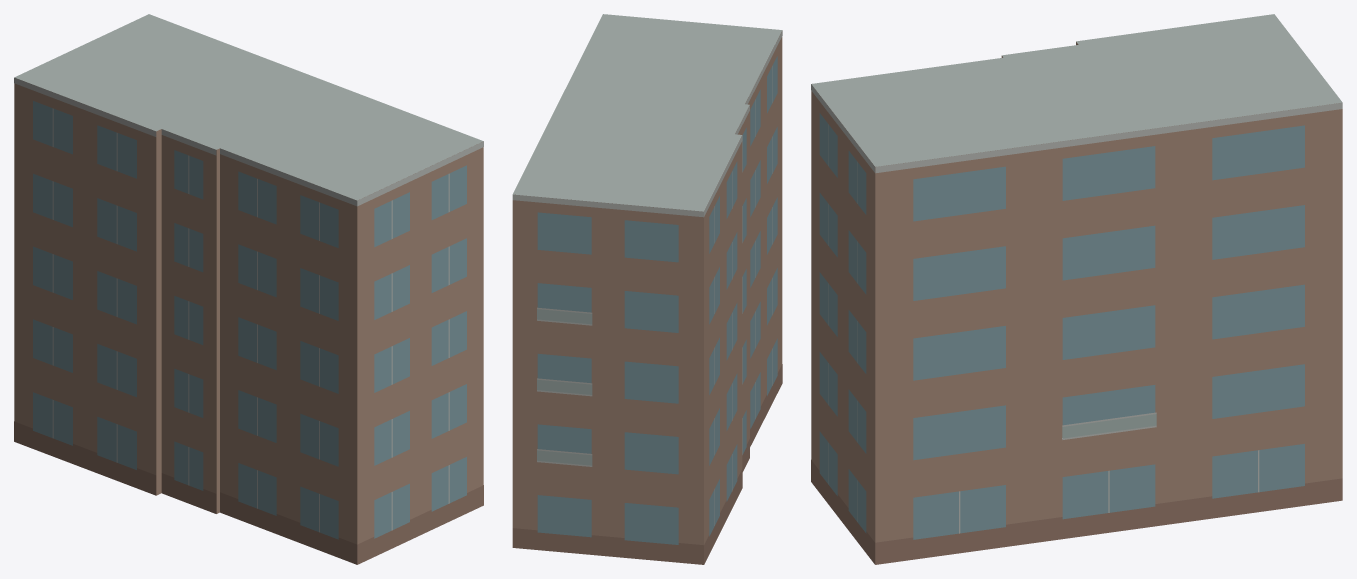
The model's file is survey-upis-32753729.glb.
3 renders of one model, left to right at view 1: azimuth 30°, elevation 25°; view 2: azimuth 150°, elevation 25°; view 3: azimuth 270°, elevation 25°, orthographic. The views are drawn at different scales.
Parts seen in each view (by area): view 1: survey-upis-32753729.tmp; view 2: survey-upis-32753729.tmp; view 3: survey-upis-32753729.tmp.
Boxes of the visible parts, x1,y1,x2,y2 form: survey-upis-32753729.tmp: [14, 14, 483, 564]; survey-upis-32753729.tmp: [512, 14, 782, 564]; survey-upis-32753729.tmp: [811, 14, 1342, 564].
Size of the model in its own units: 12.58 by 15.25 by 18.47.
